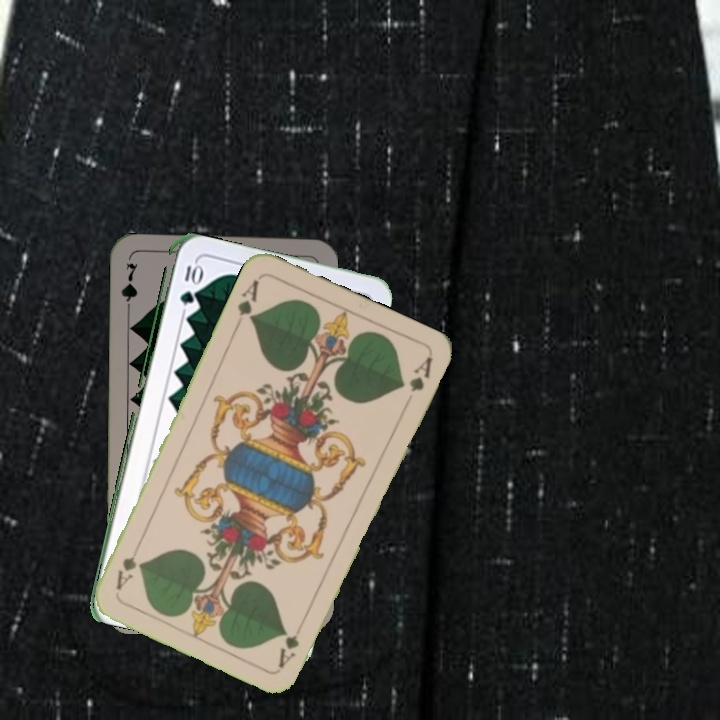G10: (176, 259, 201, 307)
G7: (117, 258, 141, 317)
GA: (232, 275, 262, 330), (274, 630, 302, 671)
